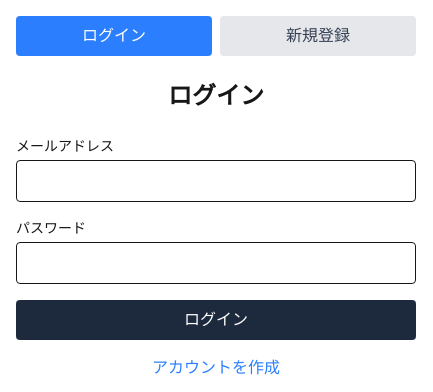
AuthForm Component › フォームの状態管理 › should disable submit button while processing
Type "test@example.com" into the field labelled "メールアドレス" at (216, 181), box [16,160,416,202]
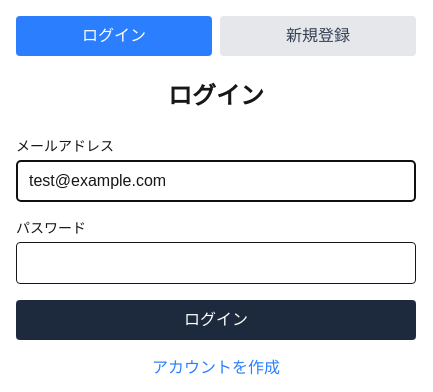
Type "ValidPassword123!" into the password field labelled "パスワード" at (216, 263), box [16,242,416,284]
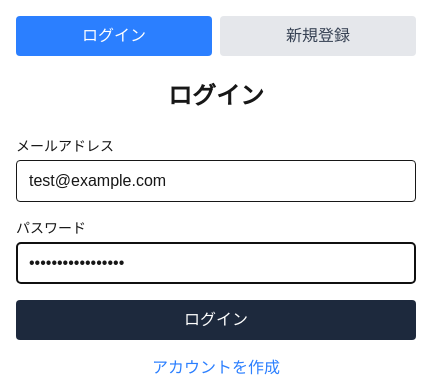
Click the button with test id "login-button" at (216, 320), box [16,300,416,340]
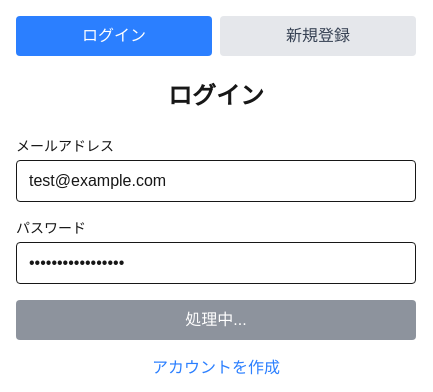
Expected: the button with test id "login-button" is disabled, [16,300,416,340]
